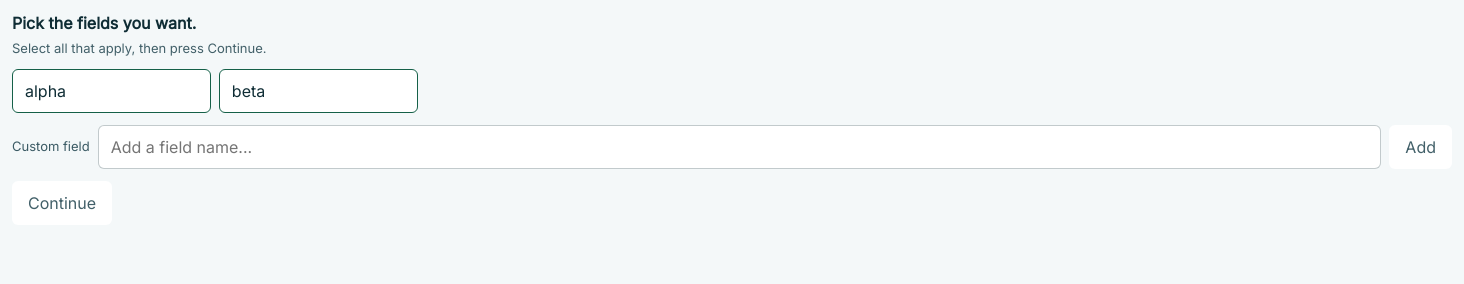
Test: MultiSelectWithCustomTurn — Continue disabled on empty assertion › Continue becomes enabled once a custom is added
The width and height of the screenshot is (1464, 284).
Expected: the button "Continue" is disabled, [12,181,112,225]
In the field labelled "Custom field": (740, 147) [98,125,1381,169], type "extra"
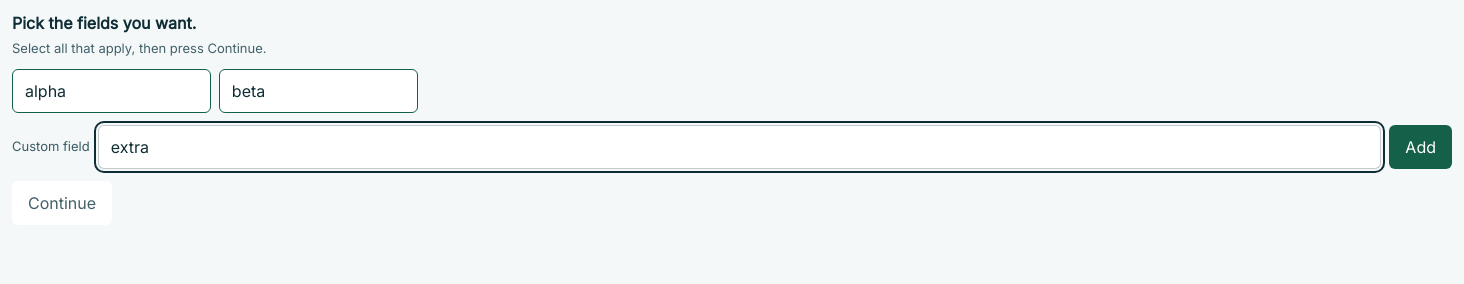
Click the button "Add": (1421, 147) [1389,125,1452,169]
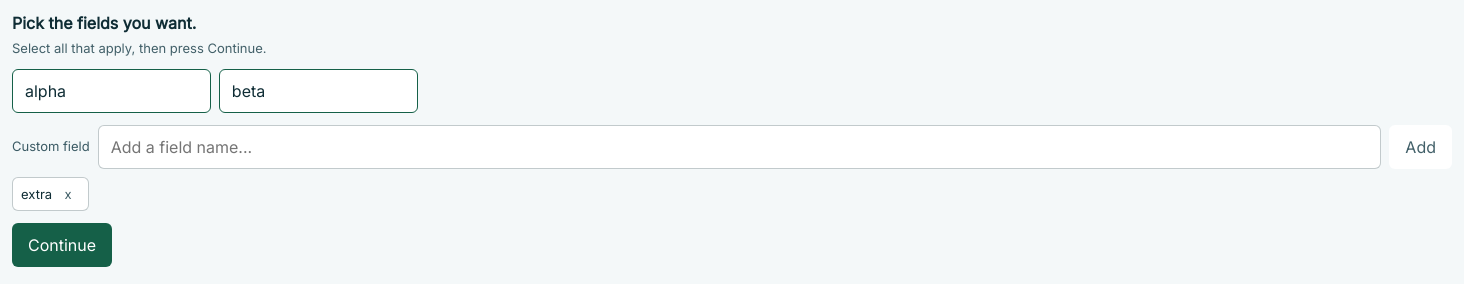
Expected: the button "Continue" is enabled, [12,223,112,267]
